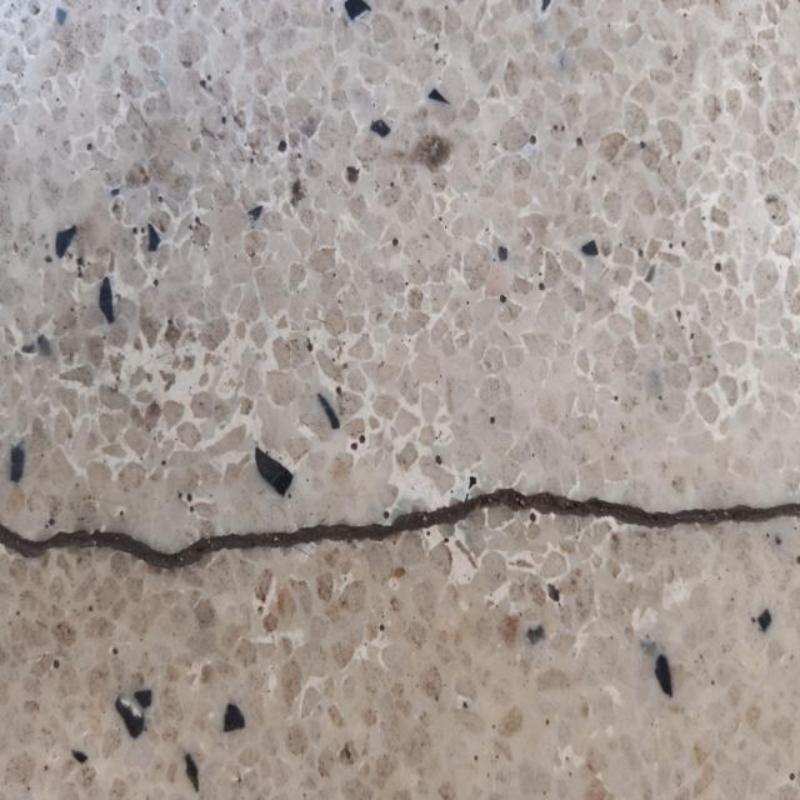crack: (0, 488, 800, 569)
